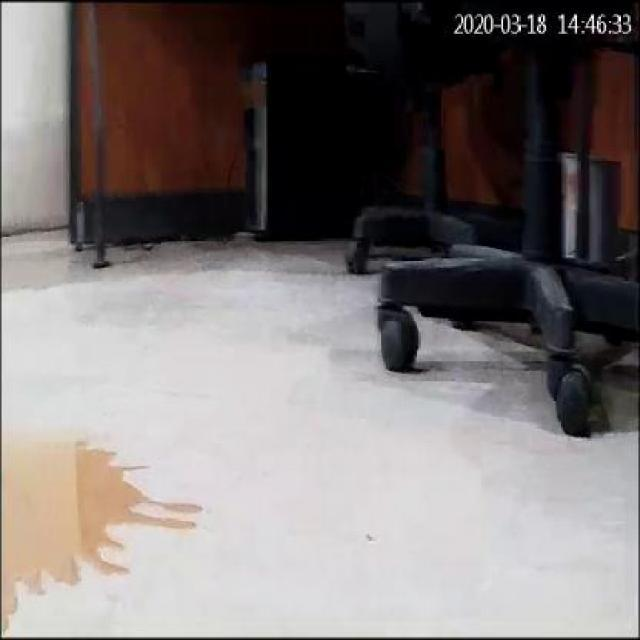spill: (3, 406, 203, 632)
